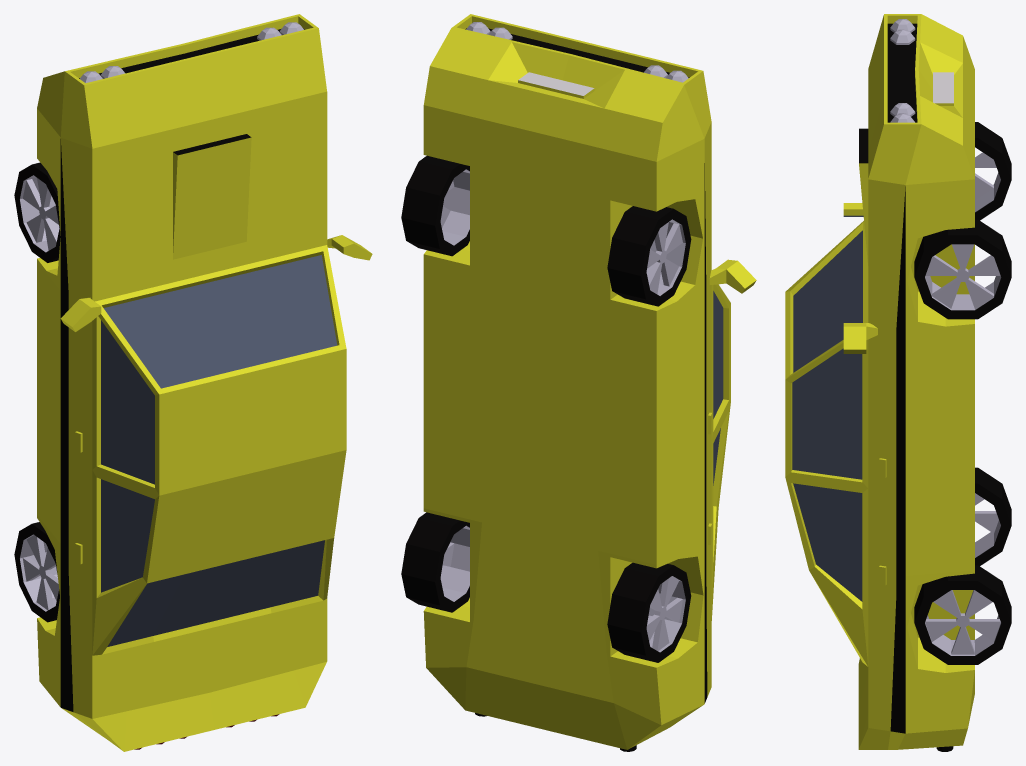
File: Muscle.glb
3 views of the same model, side by side, from view 1: azimuth 30°, elevation 25°; view 2: azimuth 150°, elevation 25°; view 3: azimuth 270°, elevation 25° (orthographic). The views are drawn at different scales.
Parts seen in each view (by area): view 1: Mesh_0; view 2: Mesh_0; view 3: Mesh_0.
Boxes of the visible parts, x1=… form: Mesh_0: x1=14, y1=14, x2=372, y2=751; Mesh_0: x1=401, y1=14, x2=756, y2=751; Mesh_0: x1=785, y1=14, x2=1011, y2=751.
Size of the model in its own units: 2.81 by 6.06 by 1.91.
